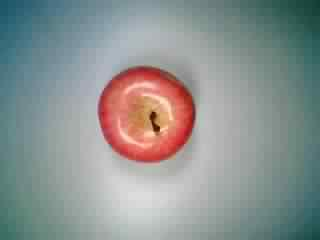apple: (96, 61, 202, 165)
